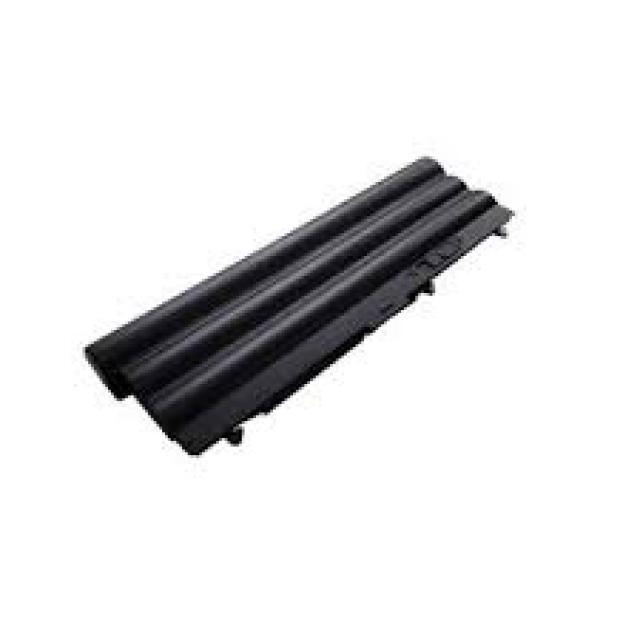battery: (85, 152, 511, 454)
